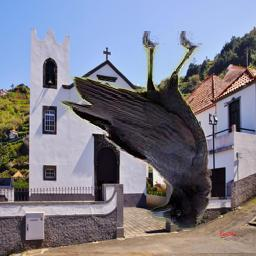Crow: (58, 32, 212, 231)
